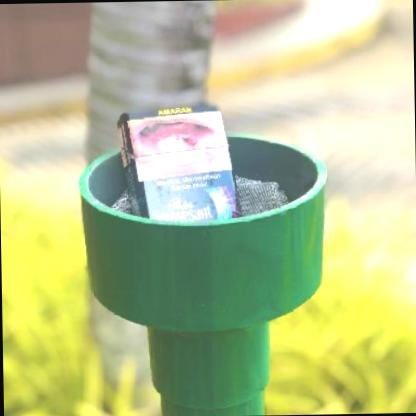objects: (116, 102, 236, 222)
